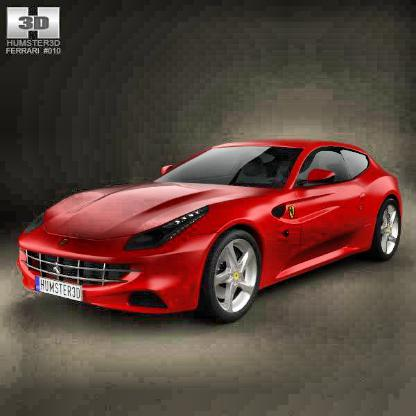Ferrari FF Coupe 2012: (16, 136, 409, 332)
